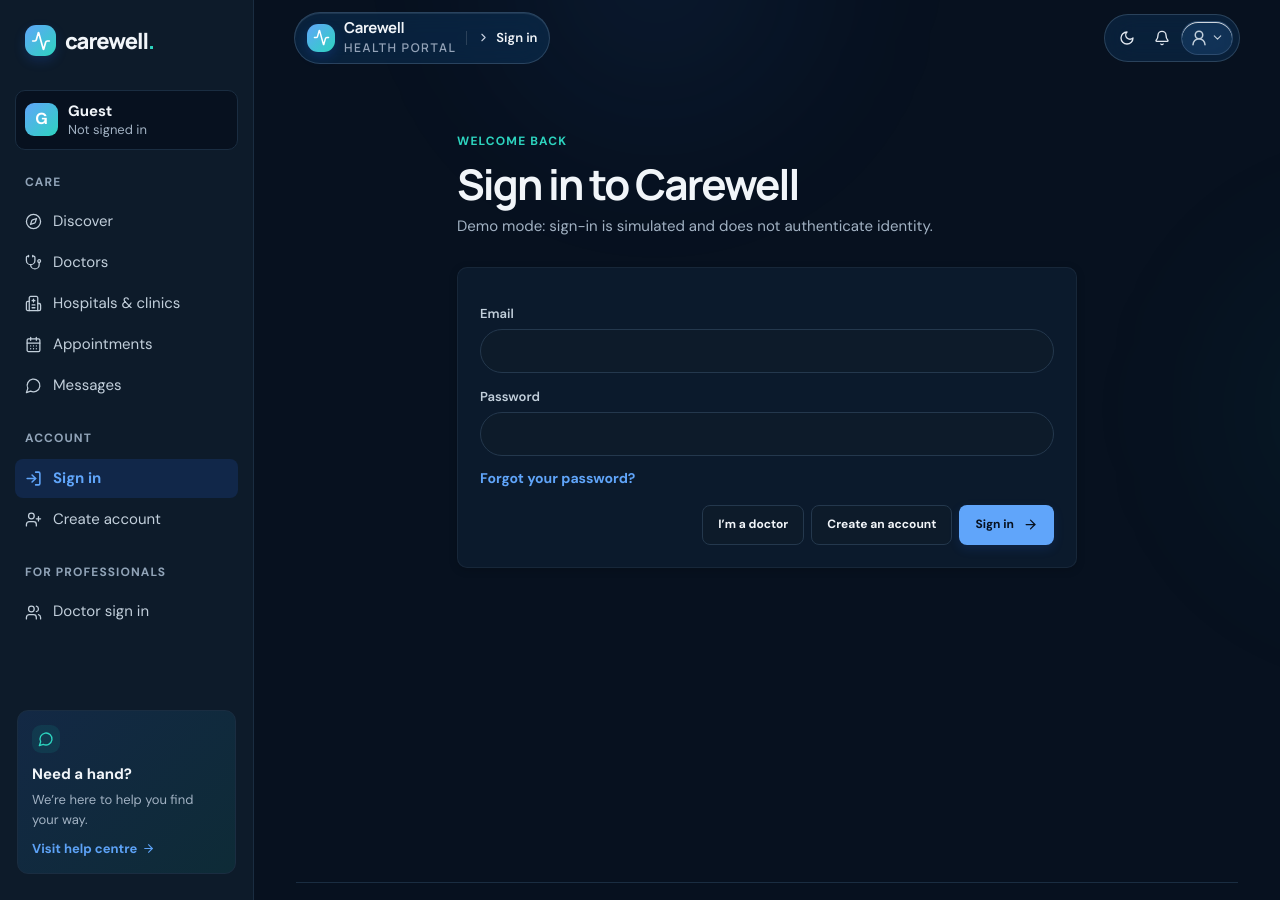
it: forgot password screens › walks a user from sign-in to a new password and back to sign-in
The width and height of the screenshot is (1280, 900).
Click the link "Forgot your password?".
click(558, 479)  # box [480,468,635,490]
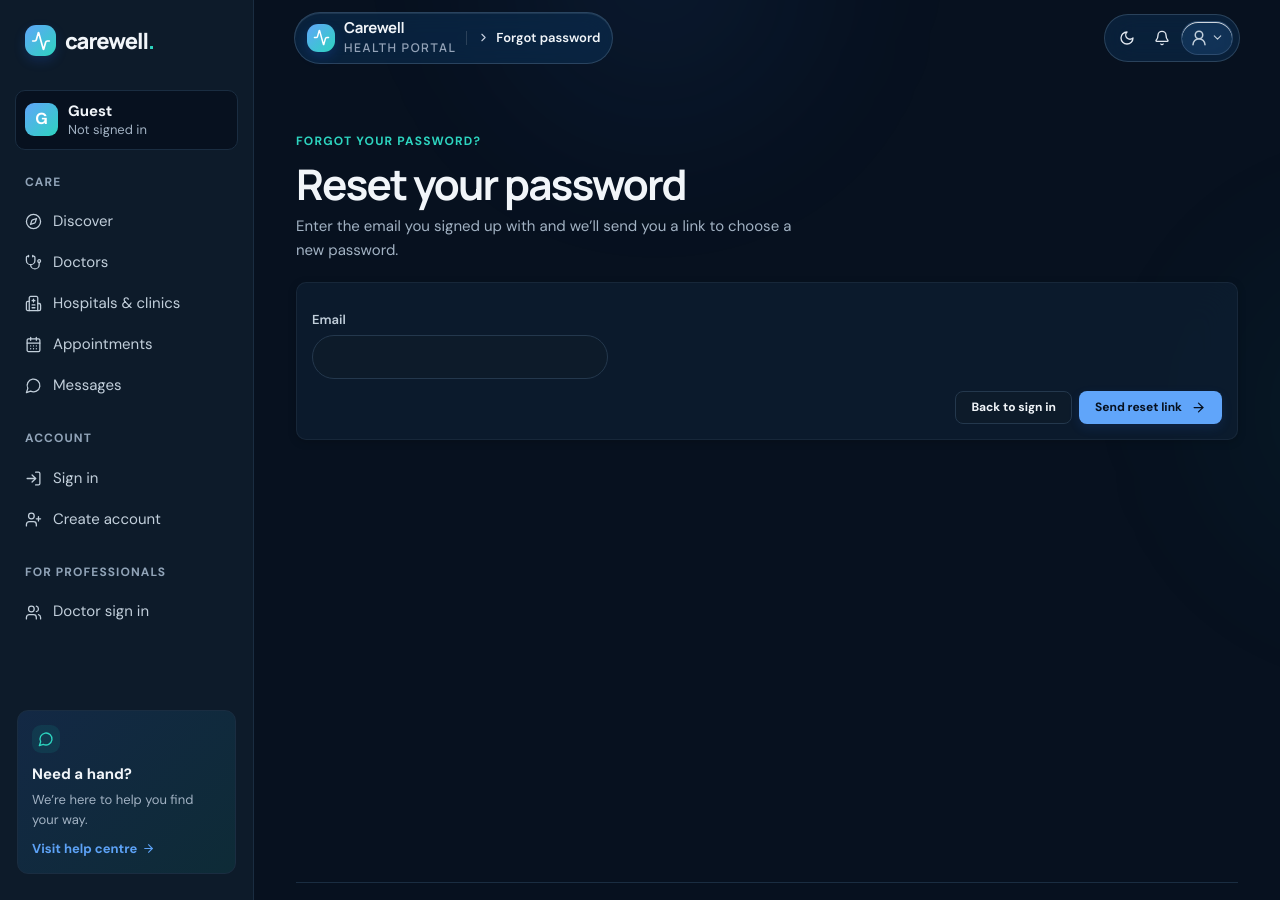
expect the heading "Reset your password" is shown: met, box [296,155,686,213]
Type "someone@example.test" into the field labelled "Email".
click(460, 357); type("someone@example.test")  # box [312,335,608,379]
Click the button "Send reset link".
click(1150, 408)  # box [1079,391,1222,424]
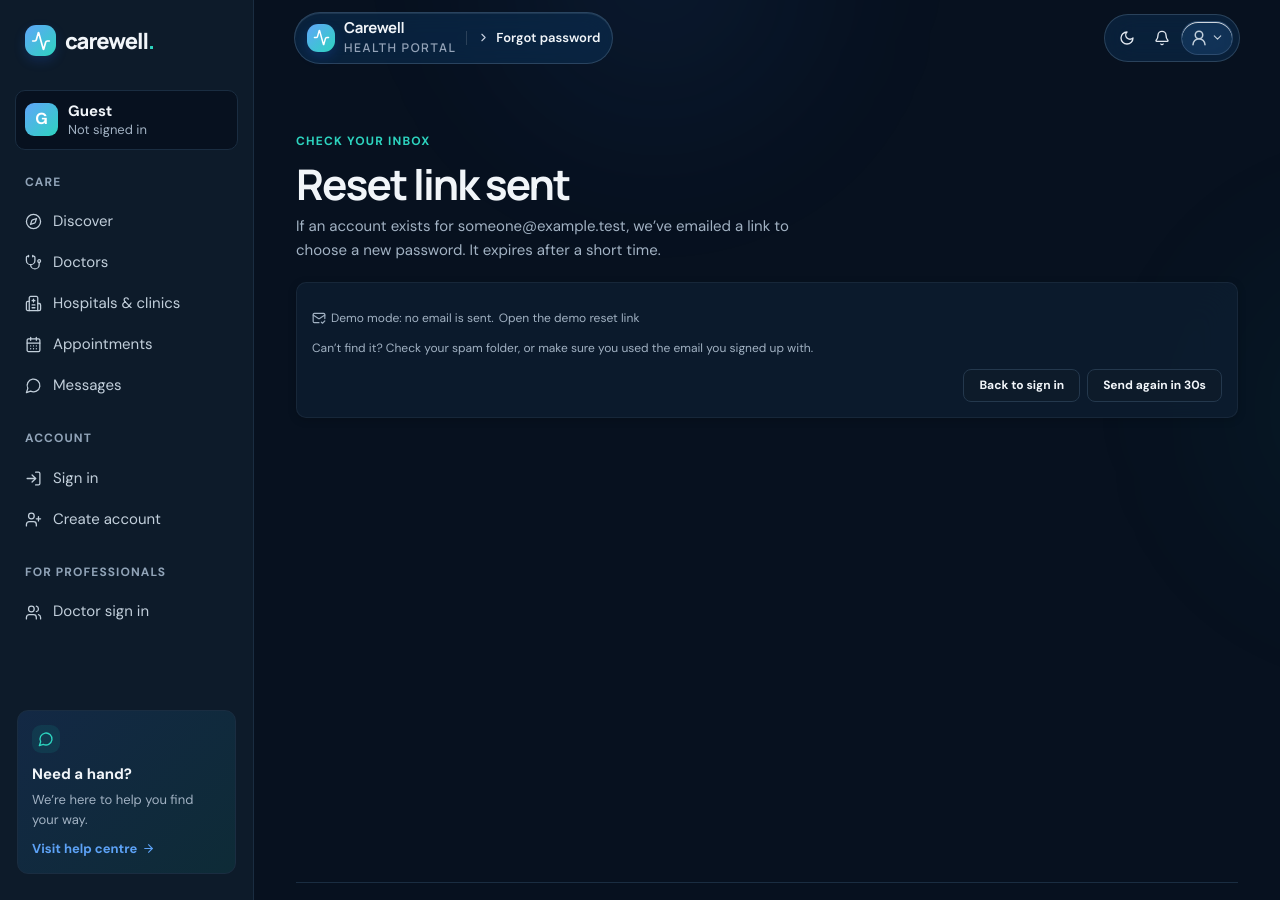
expect the heading "Reset link sent" is shown: met, box [296,155,570,213]
expect the text "If an account exists for someone@example.test" is shown: met, box [296,216,789,260]
Note: Demo mode shows the link a real email would contain.
Click the link "Open the demo reset link".
click(569, 318)  # box [499,309,639,328]
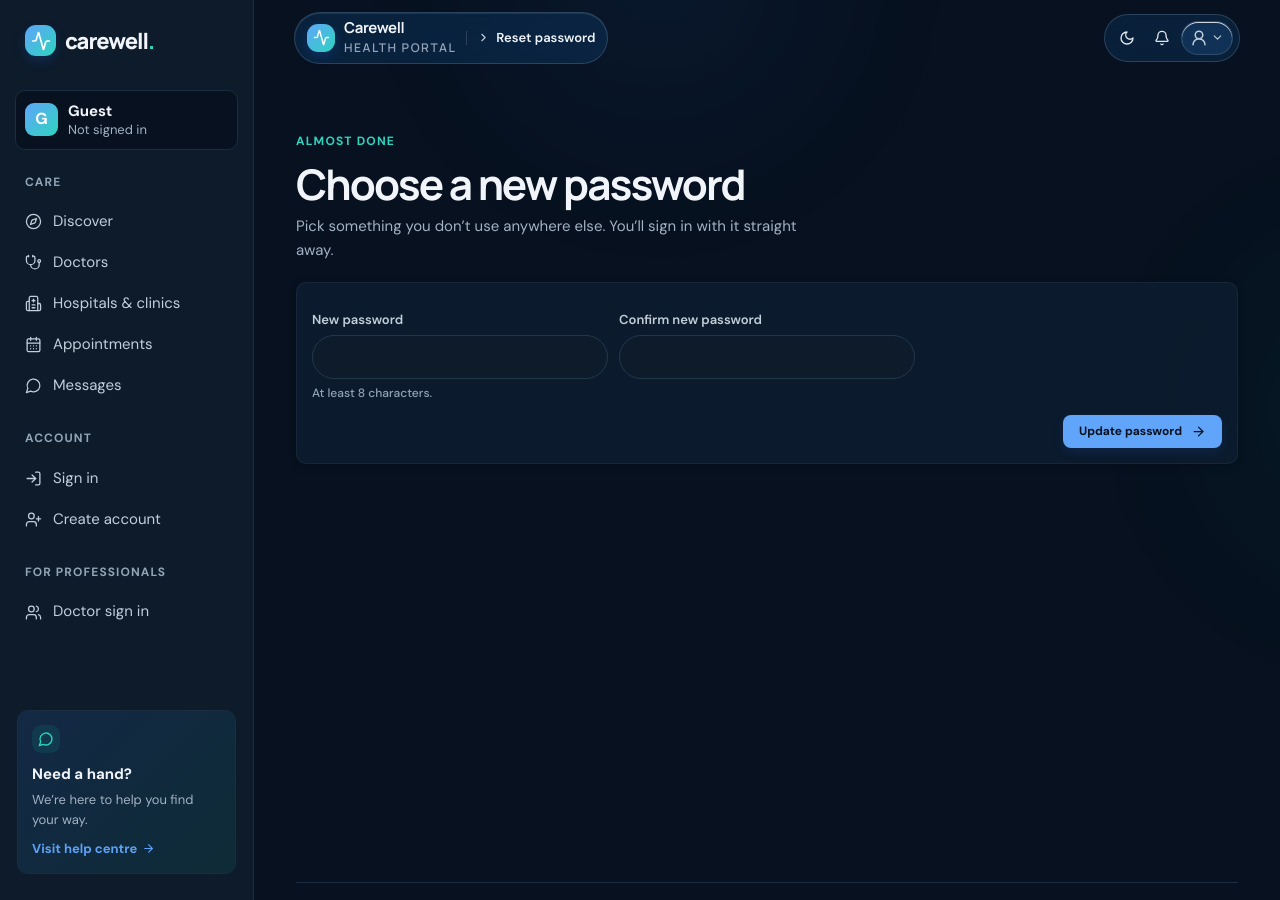
expect the heading "Choose a new password" is shown: met, box [296,160,806,208]
Type "a-brand-new-one" into the password field labelled "New password At least 8 characters.".
click(460, 357); type("a-brand-new-one")  # box [312,335,608,379]
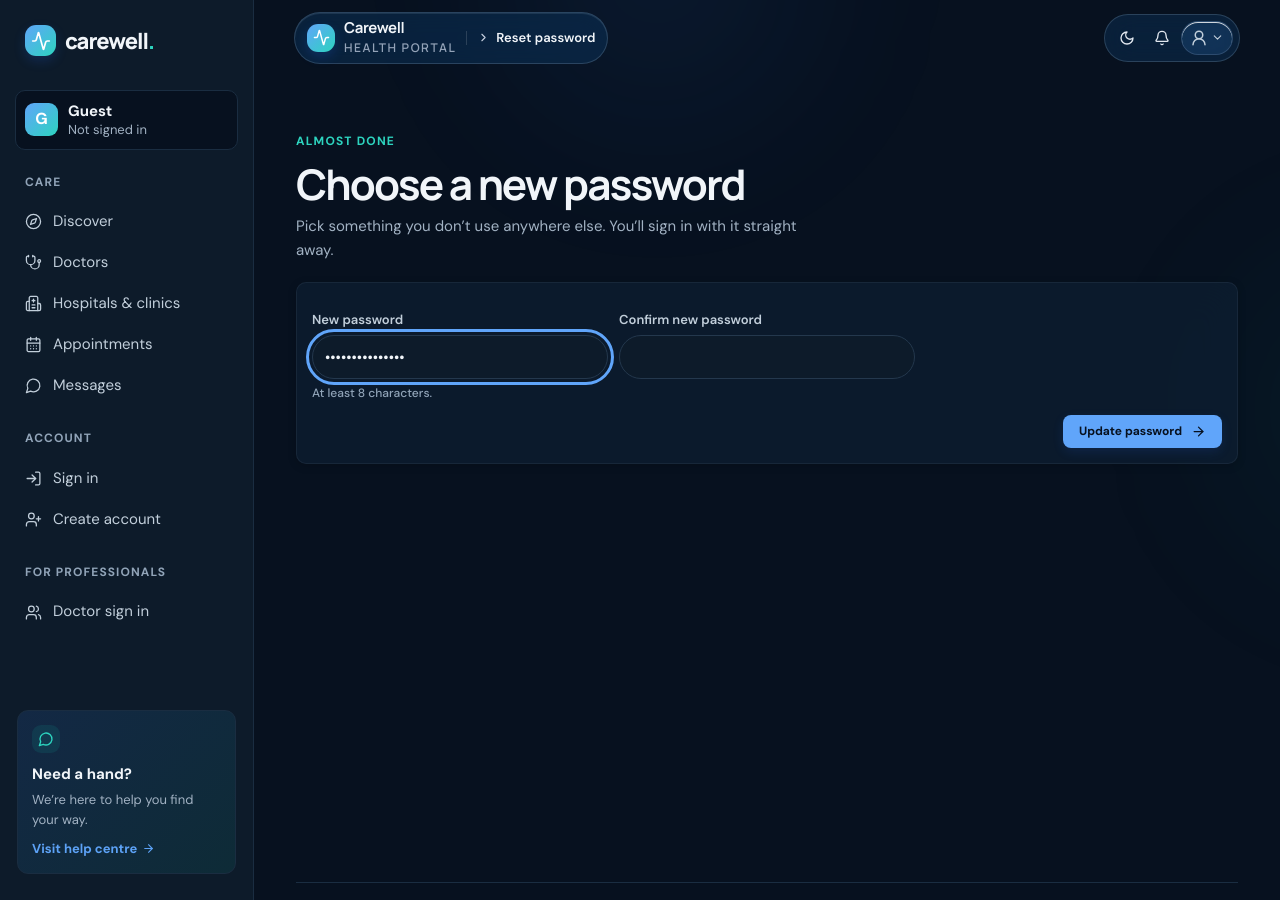
Type "a-brand-new-one" into the password field labelled "Confirm new password".
click(767, 357); type("a-brand-new-one")  # box [619,335,915,379]
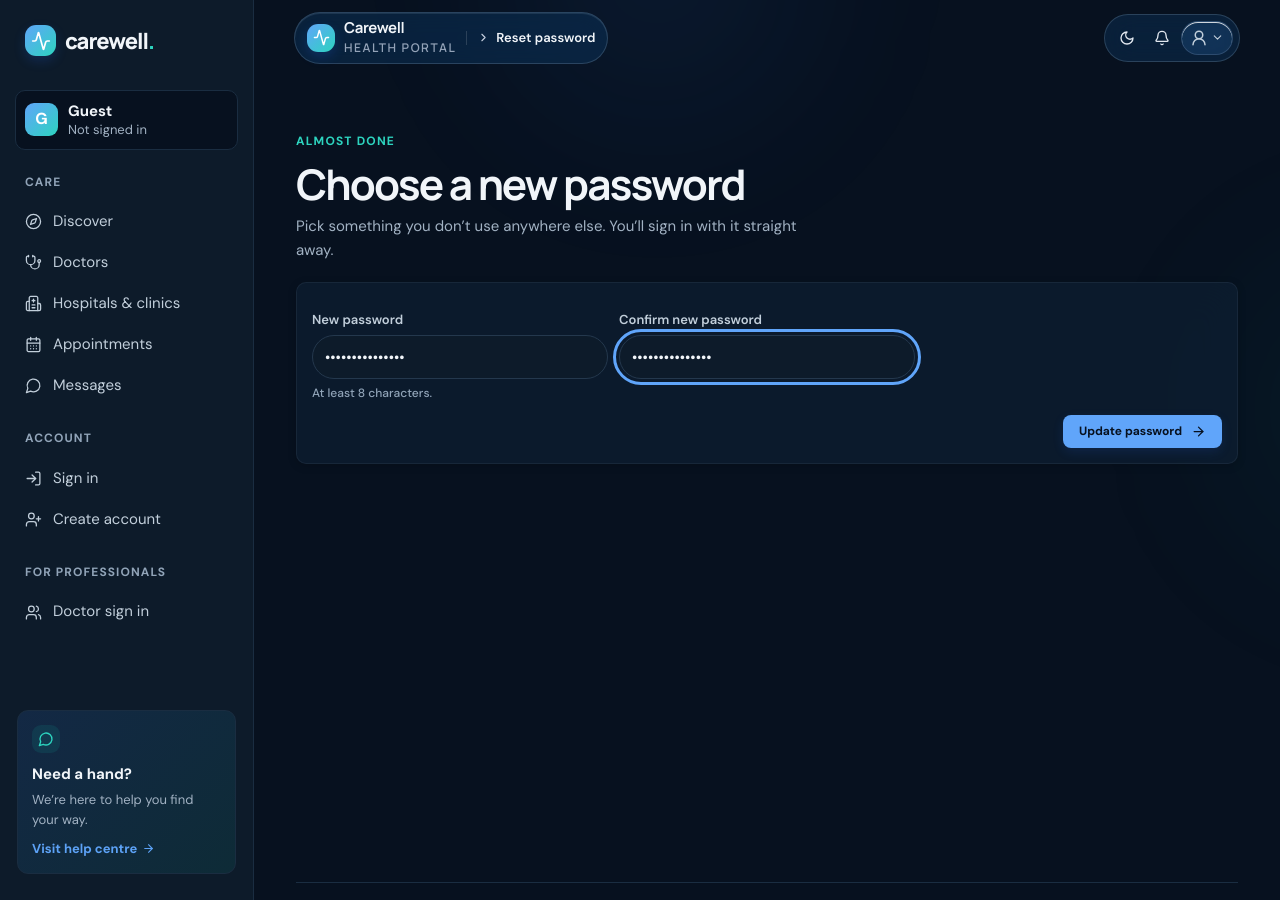
Click the button "Update password".
click(1142, 431)  # box [1063,415,1222,448]
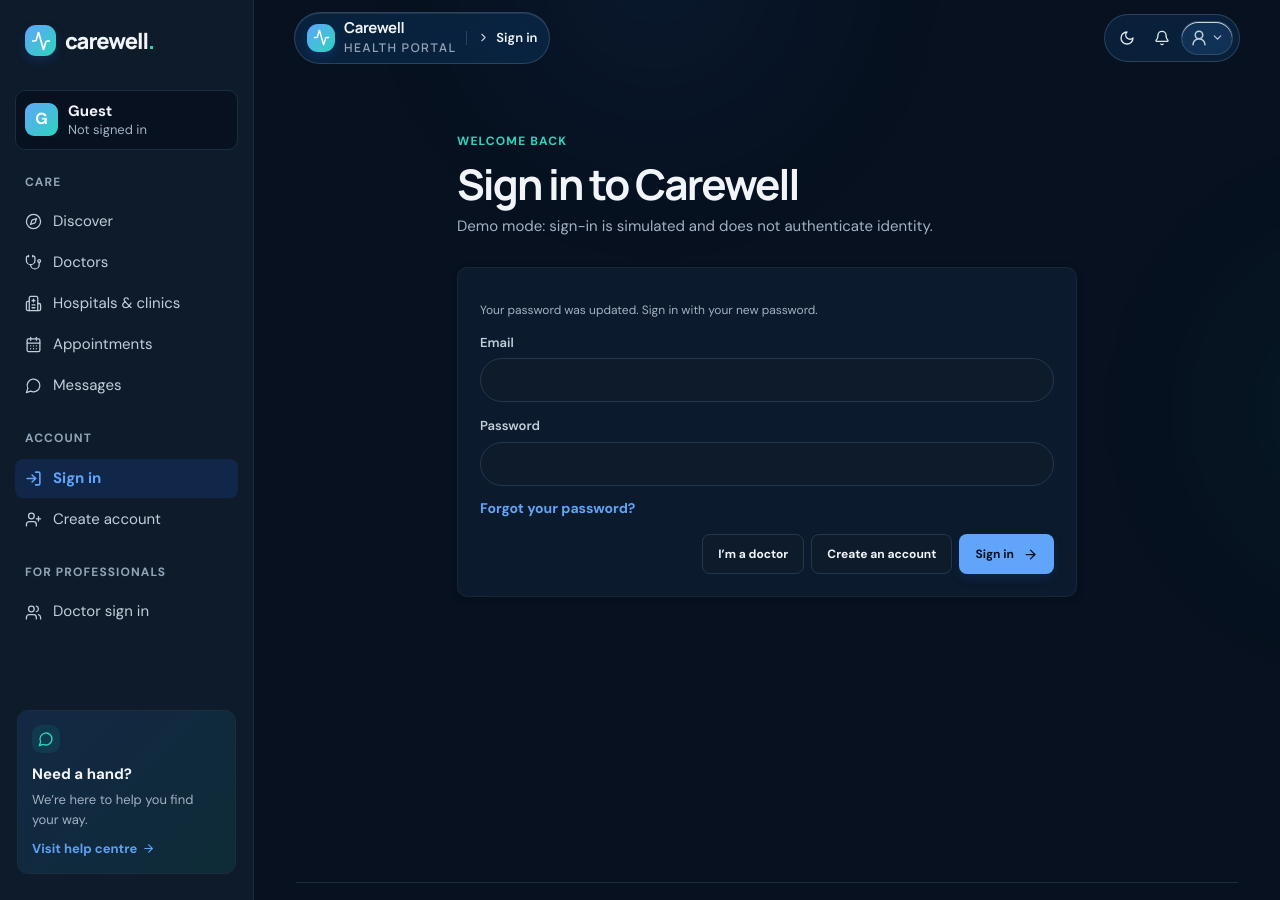
expect the heading "Sign in to Carewell" is shown: met, box [457,155,798,213]
expect the text "Your password was updated. Sign in with your new password." is shown: met, box [480,302,818,318]
